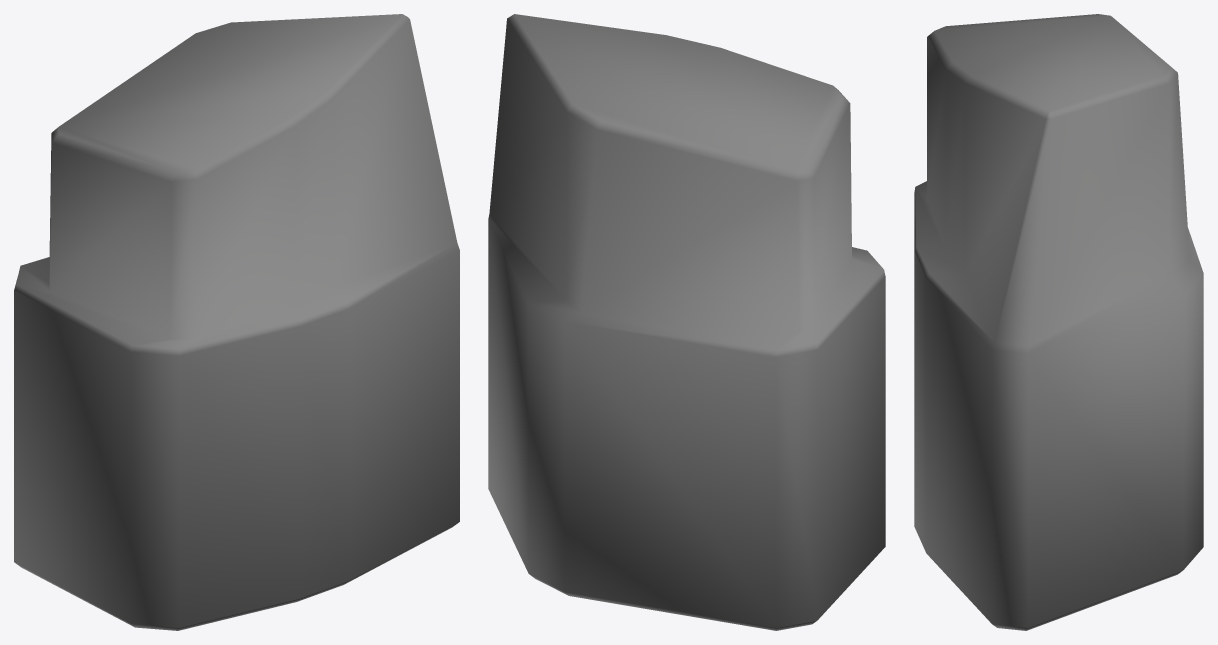
File: layeredRock-01_col.fbx
3 views of the same model, side by side, from view 1: azimuth 30°, elevation 25°; view 2: azimuth 150°, elevation 25°; view 3: azimuth 270°, elevation 25° (orthographic).
Visible parts, largest first — view 1: layeredRock-01.col; view 2: layeredRock-01.col; view 3: layeredRock-01.col.
Part boxes in pixels (box(x1,y1,x2,y2)): layeredRock-01.col: box(14, 14, 459, 630); layeredRock-01.col: box(488, 14, 885, 630); layeredRock-01.col: box(914, 14, 1203, 630).
Bounding box in the file's own units: 0.1849 × 0.2308 × 0.1196.
1 material, 1 textured.
